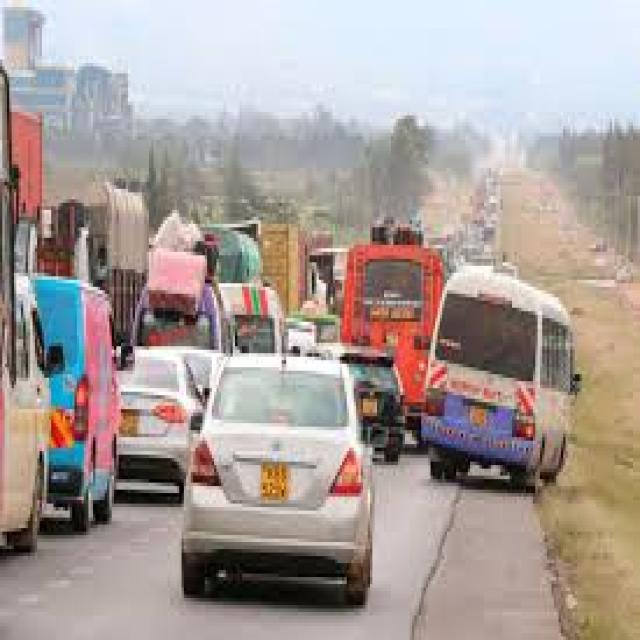bus: (418, 261, 582, 511), (336, 202, 409, 346)
matatu: (13, 274, 72, 564), (82, 269, 140, 544), (140, 228, 230, 355), (238, 272, 295, 350)
